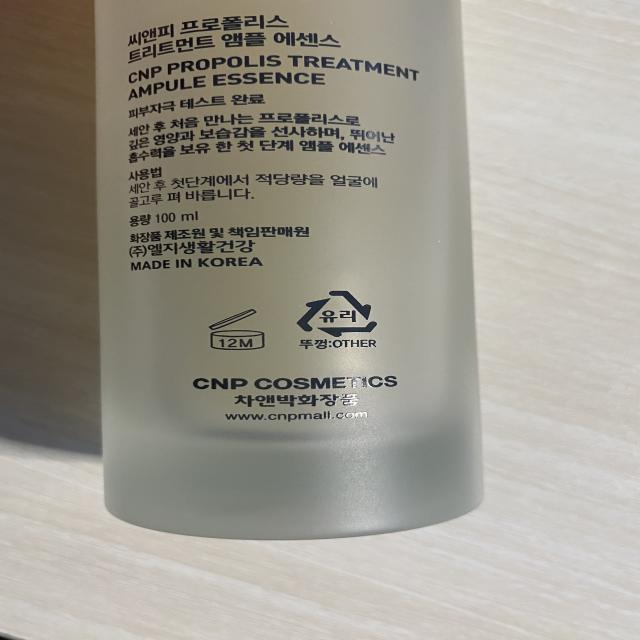Glass: (292, 287, 382, 337)
